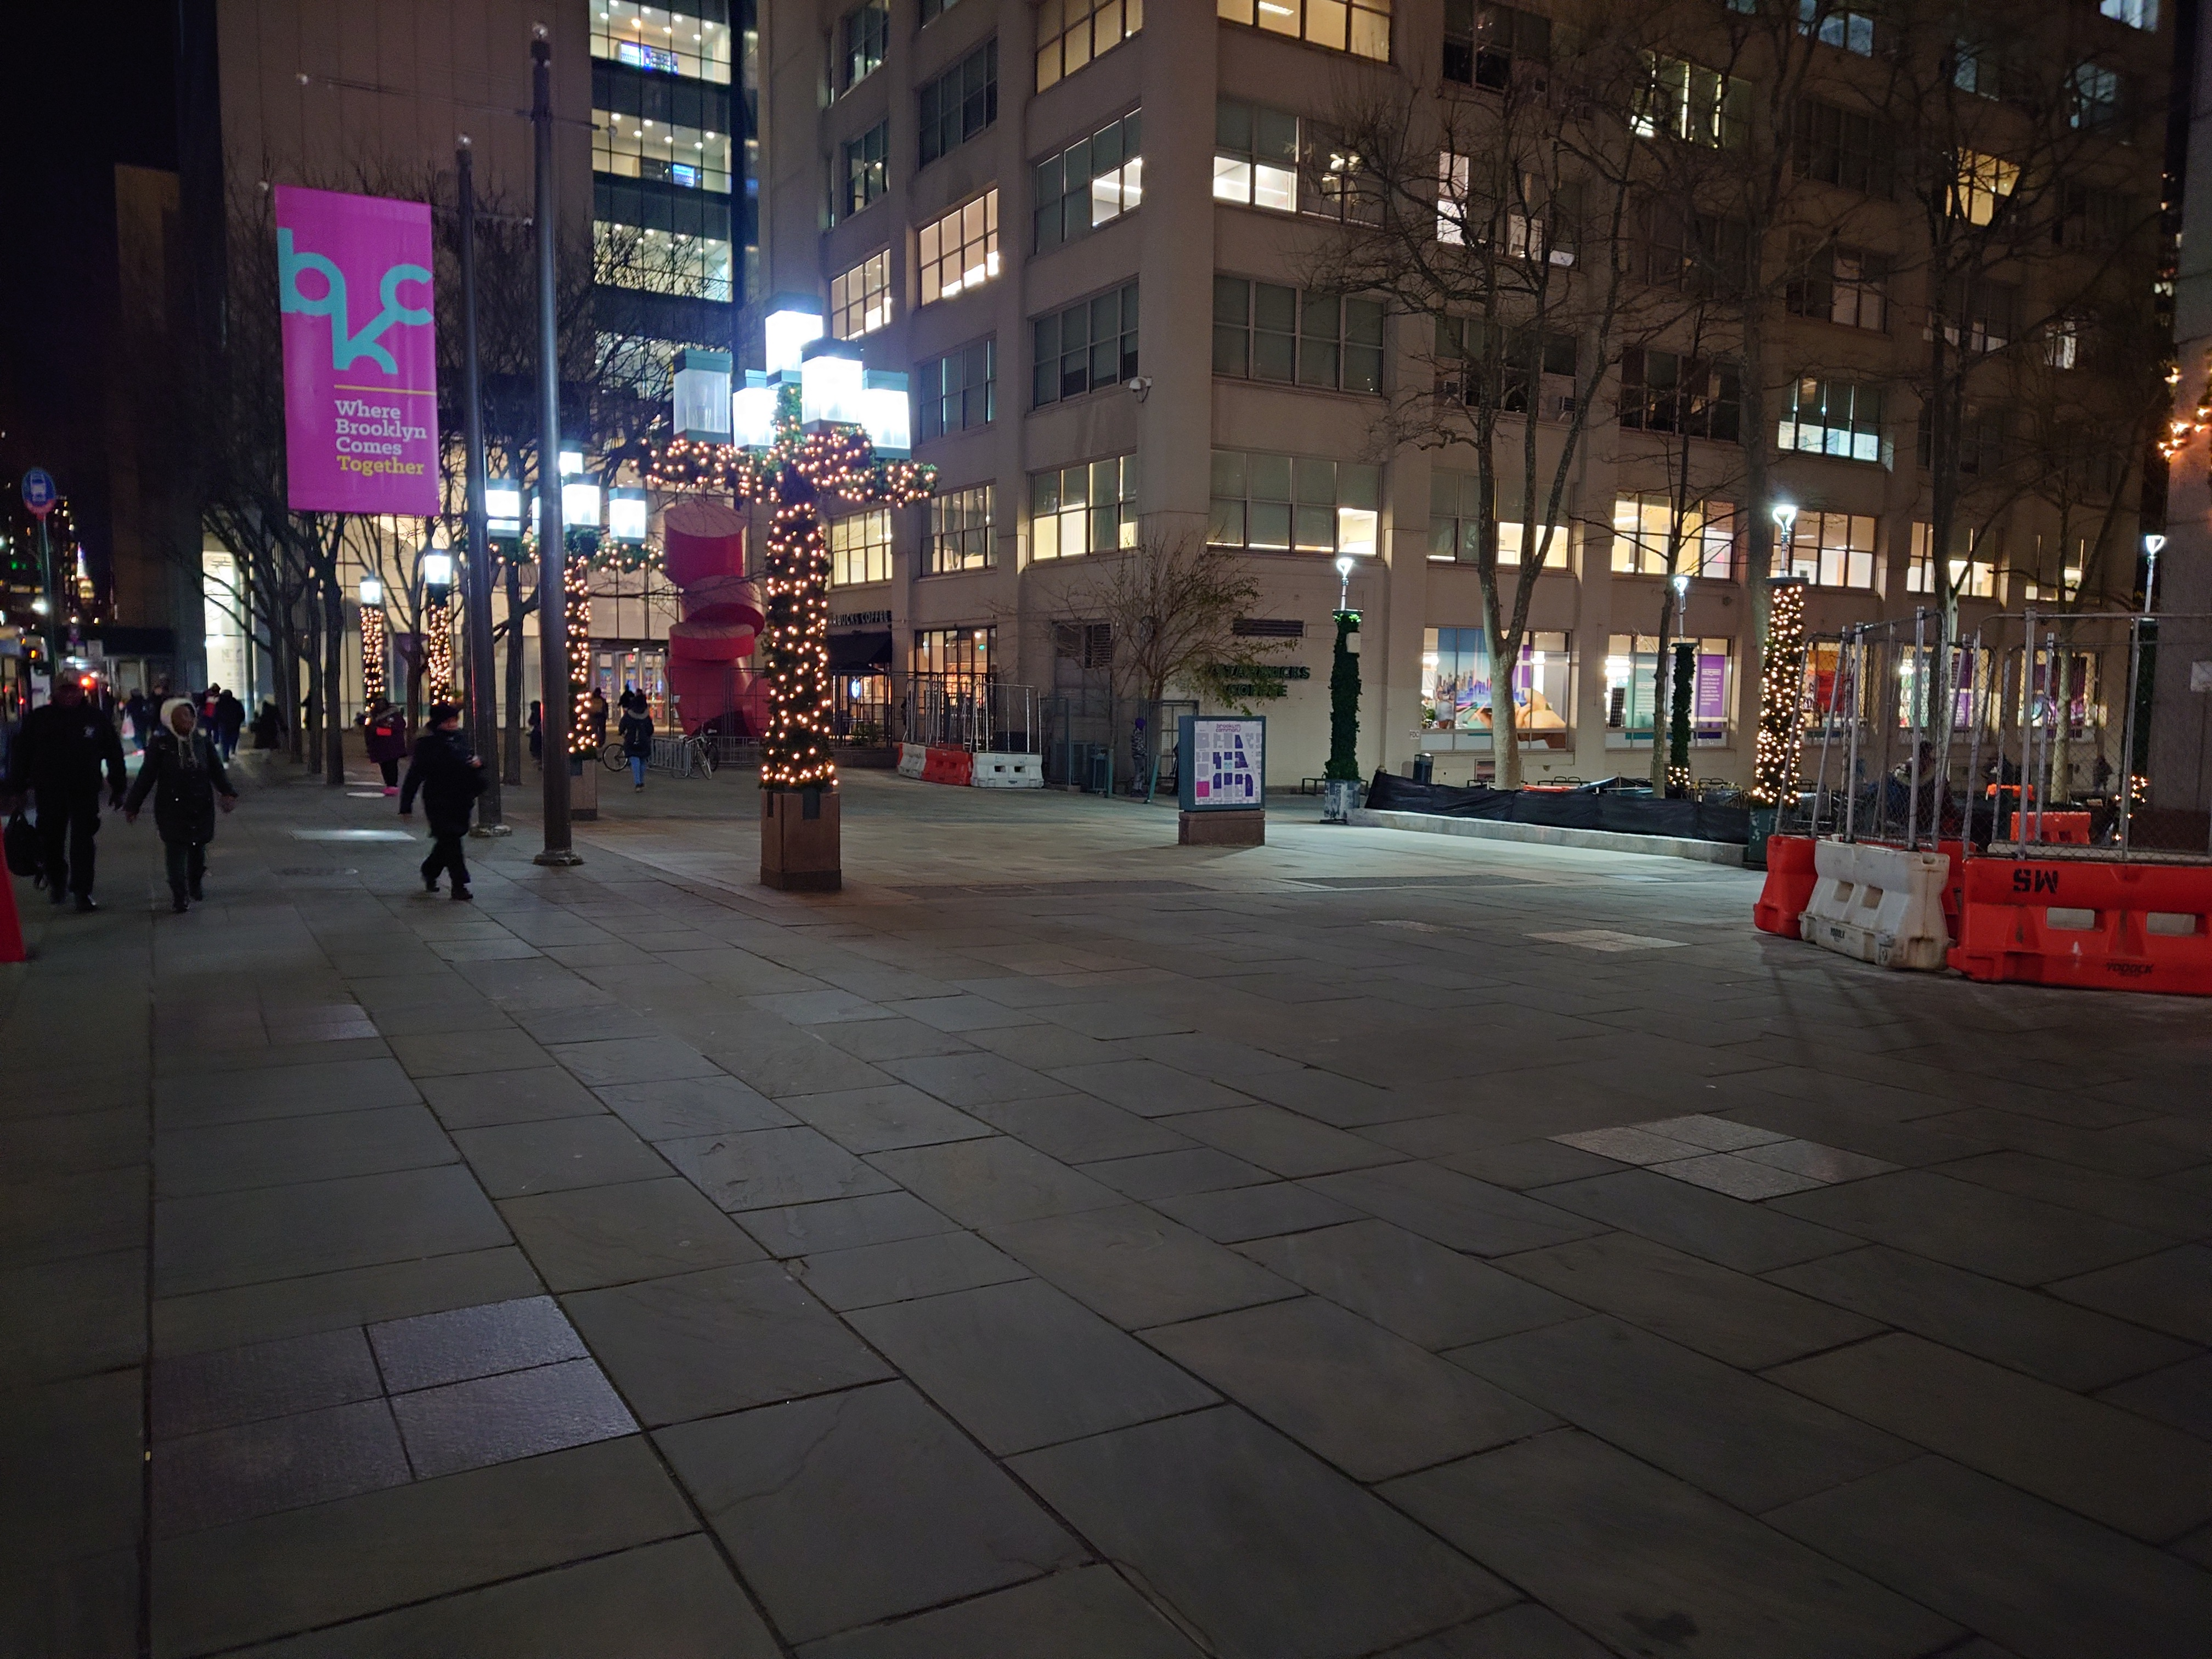person: (13, 672, 130, 917), (137, 693, 240, 926), (402, 702, 494, 907), (354, 691, 402, 797), (614, 693, 657, 795)
